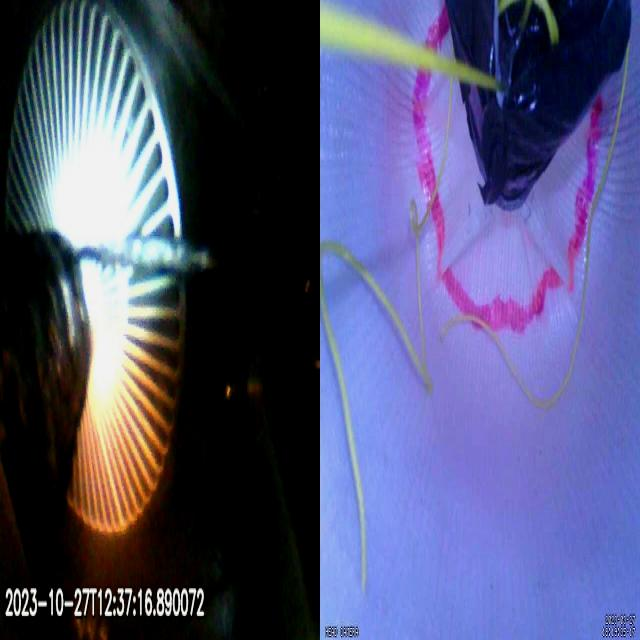red-circle: (412, 8, 604, 334)
